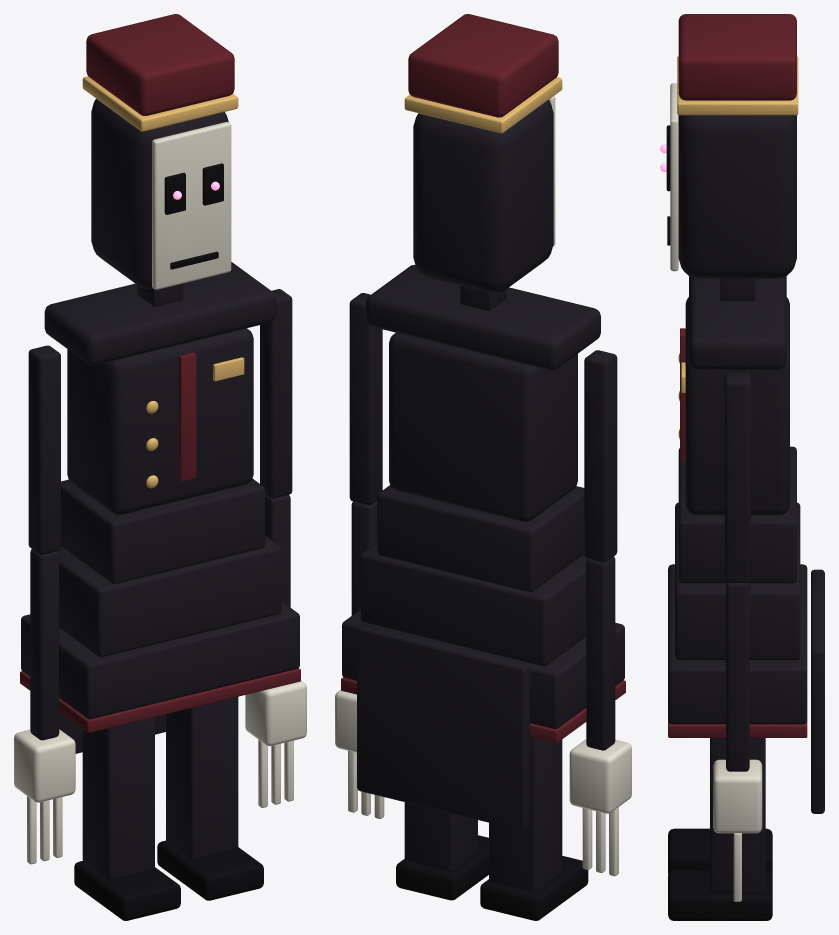
Rendered from night_manager.fbx.
3 views of the same model, side by side, from view 1: azimuth 30°, elevation 25°; view 2: azimuth 150°, elevation 25°; view 3: azimuth 270°, elevation 25° (orthographic).
Parts seen in each view (by area): view 1: chest, skirt_mid, skirt_low, skirt_high, shoulders, cap, leg.001, leg, skull, mask, upper, upper.001 (+15 smaller); view 2: tail, chest, skull, skirt_mid, skirt_high, shoulders, cap, leg, upper, upper.001, skirt_low, fore (+11 smaller); view 3: skull, chest, cap, skirt_low, skirt_mid, shoulders, skirt_high, upper.001, fore.001, leg.001, shoe.001, hand.001 (+8 smaller).
Boxes of the visible parts, x1=… form: chest: x1=67, y1=328, x2=253, y2=514; skirt_mid: x1=58, y1=535, x2=281, y2=657; skirt_low: x1=21, y1=601, x2=299, y2=719; skirt_high: x1=61, y1=478, x2=265, y2=583; shoulders: x1=44, y1=262, x2=276, y2=365; cap: x1=86, y1=14, x2=234, y2=115; leg.001: x1=166, y1=697, x2=238, y2=860; leg: x1=82, y1=717, x2=154, y2=880; skull: x1=91, y1=98, x2=228, y2=288; mask: x1=152, y1=122, x2=231, y2=289; upper: x1=28, y1=345, x2=60, y2=554; upper.001: x1=260, y1=289, x2=292, y2=498; tail: x1=357, y1=624, x2=529, y2=830; chest: x1=389, y1=332, x2=577, y2=521; skull: x1=413, y1=100, x2=553, y2=292; skirt_mid: x1=360, y1=543, x2=587, y2=666; skirt_high: x1=377, y1=485, x2=584, y2=591; shoulders: x1=366, y1=265, x2=600, y2=370; cap: x1=408, y1=14, x2=558, y2=117; leg: x1=489, y1=737, x2=562, y2=892; upper: x1=584, y1=350, x2=617, y2=562; upper.001: x1=349, y1=293, x2=382, y2=505; skirt_low: x1=342, y1=609, x2=624, y2=729; fore: x1=586, y1=556, x2=615, y2=750; skull: x1=678, y1=115, x2=796, y2=278; chest: x1=685, y1=297, x2=789, y2=515; cap: x1=678, y1=14, x2=796, y2=100; skirt_low: x1=668, y1=564, x2=807, y2=724; skirt_mid: x1=675, y1=502, x2=800, y2=660; shoulders: x1=689, y1=276, x2=786, y2=369; skirt_high: x1=678, y1=446, x2=796, y2=583; upper.001: x1=724, y1=372, x2=750, y2=582; fore.001: x1=726, y1=582, x2=749, y2=771; leg.001: x1=710, y1=738, x2=765, y2=893; shoe.001: x1=668, y1=870, x2=772, y2=920; hand.001: x1=713, y1=759, x2=762, y2=833.
Size of what is drawn, in the model's own units: 460 by 1350 by 236.
